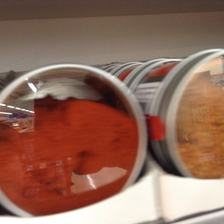spices: (1, 63, 148, 218), (157, 48, 224, 179)
